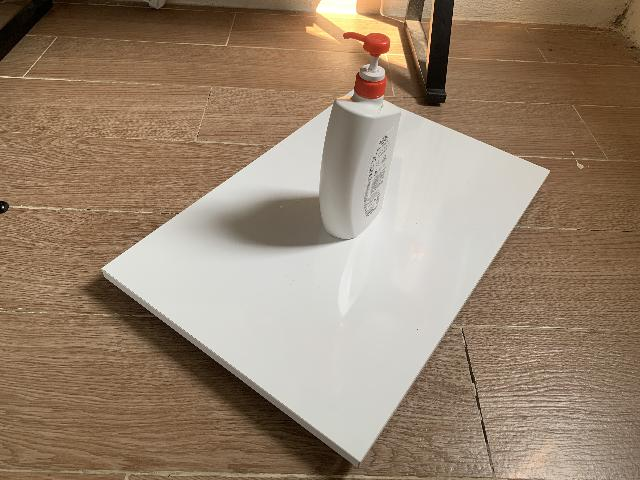life-buoy: (319, 32, 402, 241)
